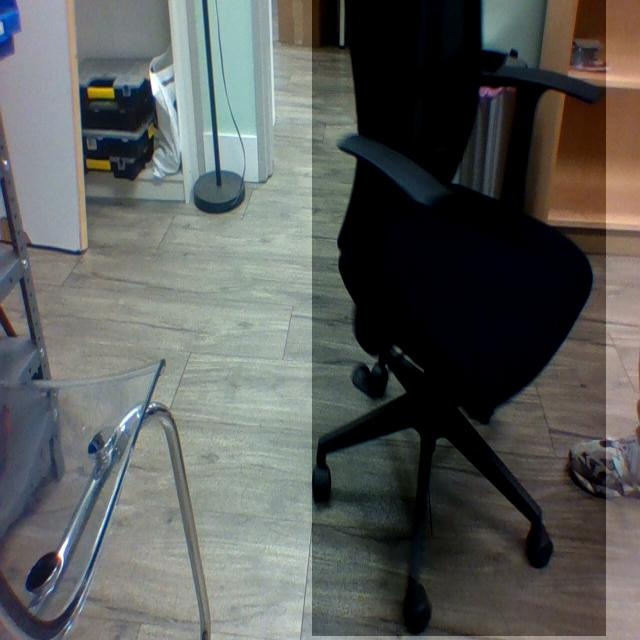black-chair: (312, 0, 607, 637)
